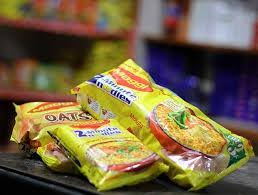maggie: (88, 35, 252, 187), (53, 117, 155, 180)
